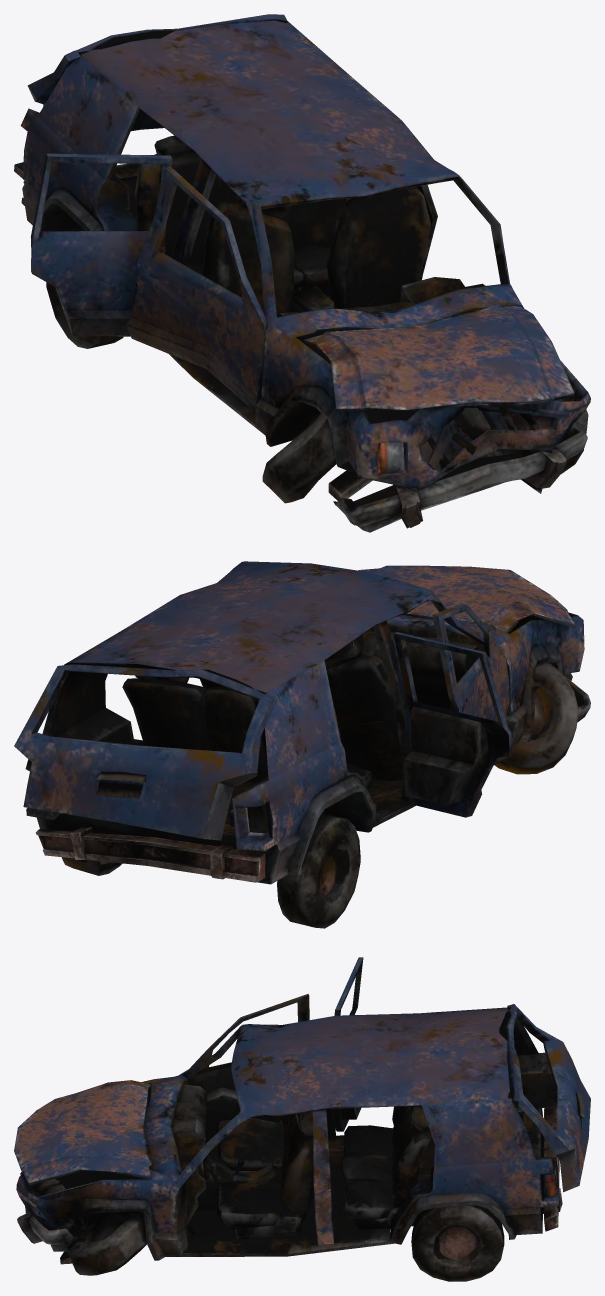
File: car_crashed.glb
The picture shows the model from 3 angles, top to bottom: view 1: azimuth 30°, elevation 25°; view 2: azimuth 150°, elevation 25°; view 3: azimuth 270°, elevation 25°; orthographic projection. The views are drawn at different scales.
Parts seen in each view (by area): view 1: Object_4; view 2: Object_4; view 3: Object_4.
Part boxes in pixels (box(x1,y1,x2,y2)): Object_4: box(14, 14, 590, 532); Object_4: box(14, 561, 590, 928); Object_4: box(14, 957, 590, 1281).
Size of the model in its own units: 4.42 by 2.92 by 7.52.
Materials: 1 (1 with a texture image).
